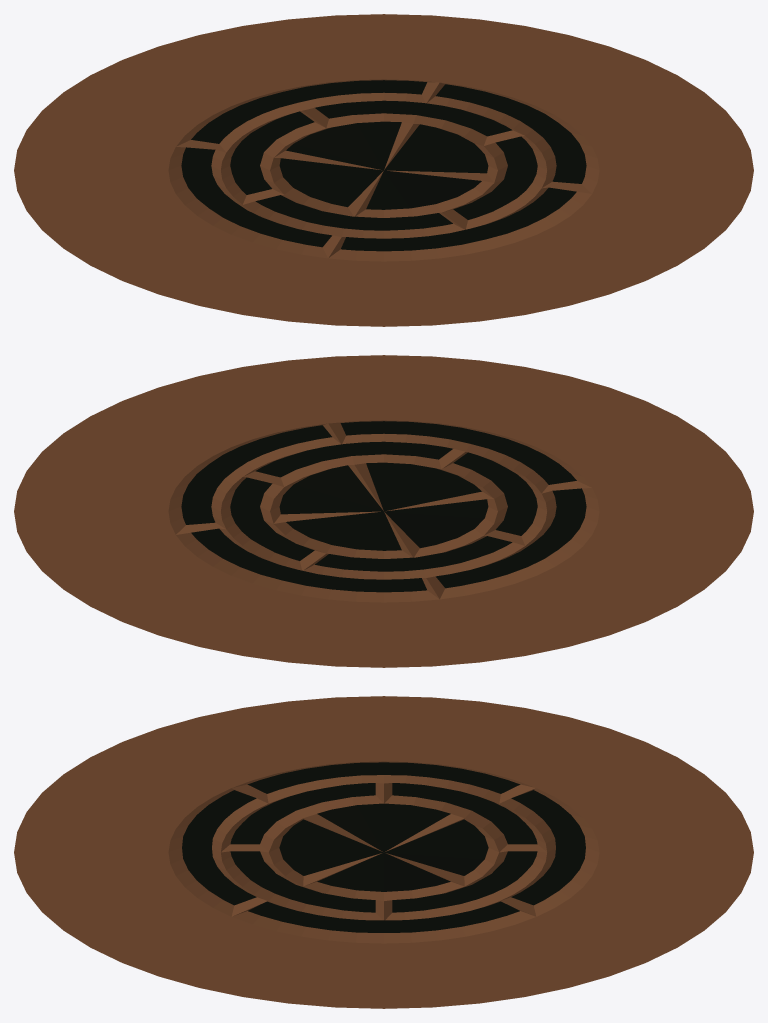
File: field.fbx
3 views of the same model, one above another, from view 1: azimuth 30°, elevation 25°; view 2: azimuth 150°, elevation 25°; view 3: azimuth 270°, elevation 25° (orthographic).
Visible parts, largest first — view 1: field; view 2: field; view 3: field.
Boxes of the visible parts, x1,y1,x2,y2 form: field: [14, 14, 753, 326]; field: [14, 355, 753, 667]; field: [14, 696, 753, 1008].
Bounding box in the file's own units: 76.87 × 0.5426 × 76.87.
